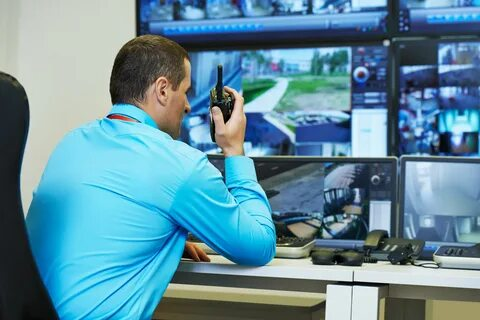awake: (24, 33, 278, 319)
